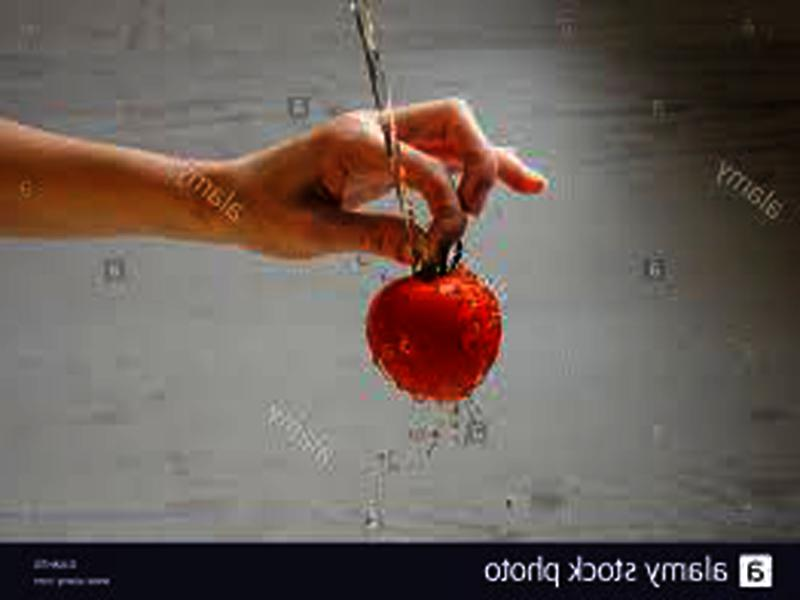Tomato: (362, 272, 497, 403)
